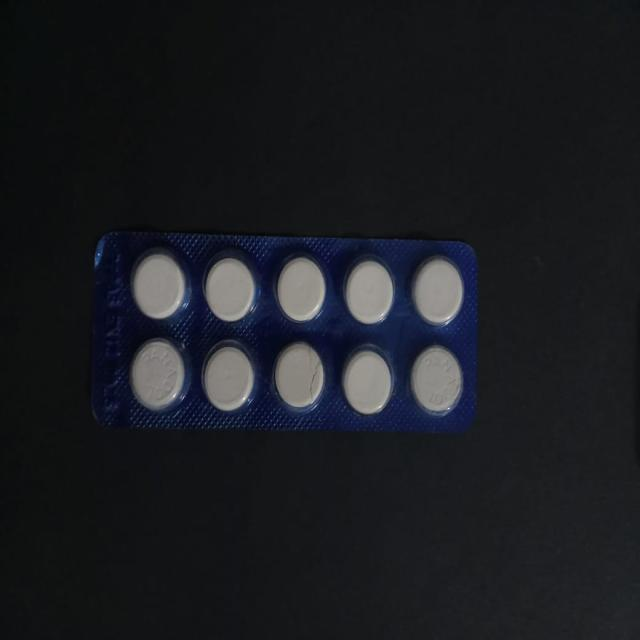defect: (272, 340, 326, 410)
